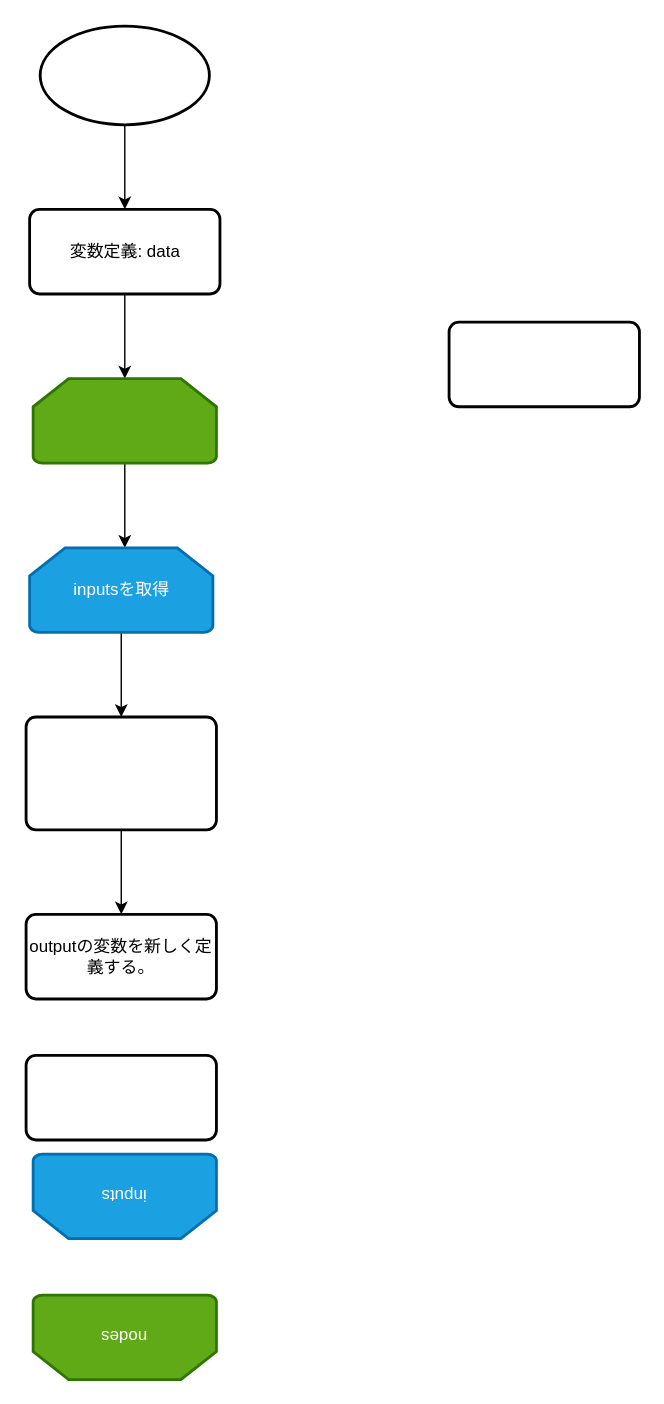
Image size: 664x1404. Some labels were removed from this diagram. Each missing label, with the centre of its shape:
"data内:nodes" goes at point 124,420.
"inputの `output`を参照しある場合それを使用。 ない場合は他のnodeのoutputを参照し変数を取得" goes at point 120,772.
"Start" goes at point 124,74.
